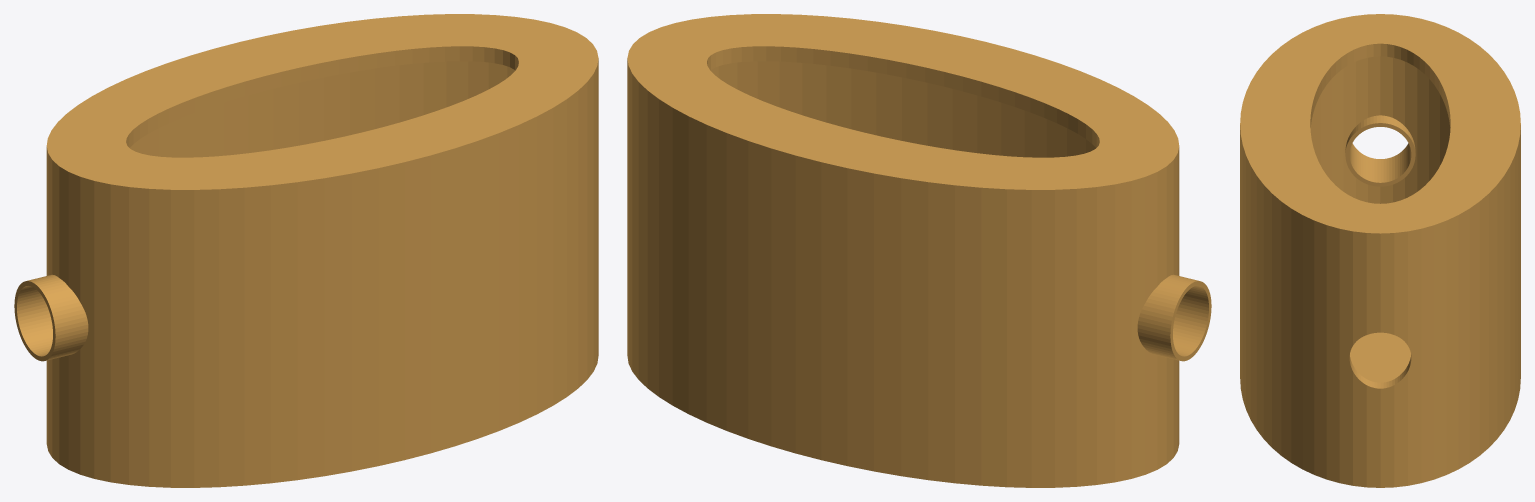
The model's file is Câmara descontaminação do ar - COVID-19 (1).glb.
3 renders of one model, left to right at view 1: azimuth 30°, elevation 25°; view 2: azimuth 150°, elevation 25°; view 3: azimuth 270°, elevation 25°, orthographic. The views are drawn at different scales.
Visible parts, largest first — view 1: Mesh_Mesh_head_geo.001_lambert2SG.001; view 2: Mesh_Mesh_head_geo.001_lambert2SG.001; view 3: Mesh_Mesh_head_geo.001_lambert2SG.001.
Part boxes in pixels (box(x1,y1,x2,y2)): Mesh_Mesh_head_geo.001_lambert2SG.001: box(14, 14, 598, 487); Mesh_Mesh_head_geo.001_lambert2SG.001: box(627, 14, 1211, 487); Mesh_Mesh_head_geo.001_lambert2SG.001: box(1240, 14, 1520, 487).
Size of the model in its own units: 194 by 100 by 100.
